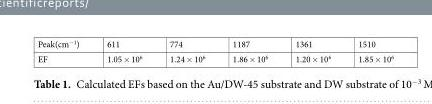table: (36, 37, 393, 64)
table column: (92, 37, 155, 64), (155, 37, 218, 64), (218, 37, 281, 64), (281, 37, 343, 64), (36, 37, 92, 64), (343, 37, 393, 64)
table row: (36, 50, 393, 64), (36, 37, 393, 50)
